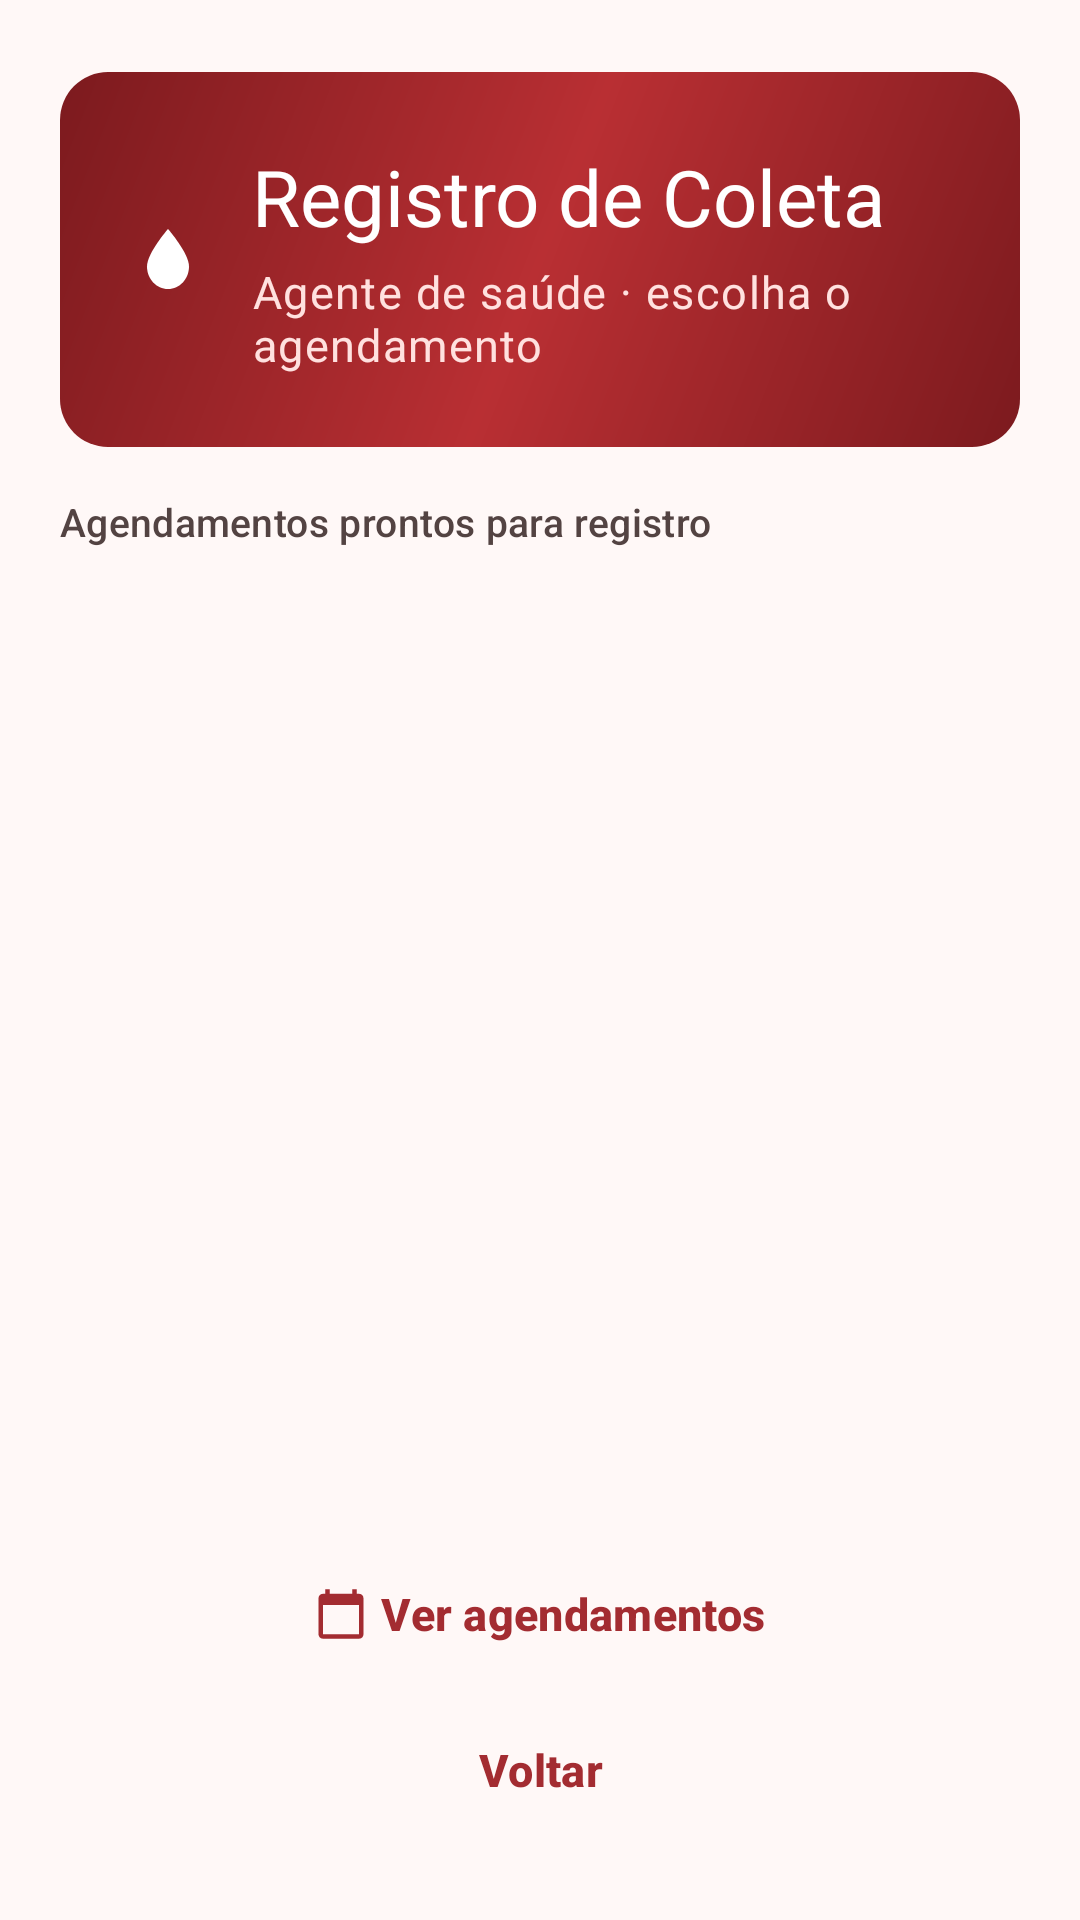

Where icons sit on this 1080 x 1920 app screen, as (x1, y1, x2, y2):
drop: (147, 229, 189, 289)
